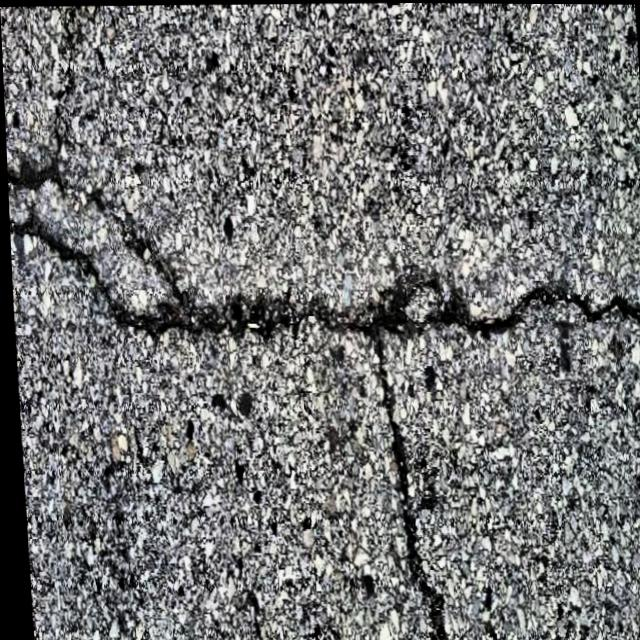cracks: (6, 166, 640, 335), (345, 276, 437, 640)
